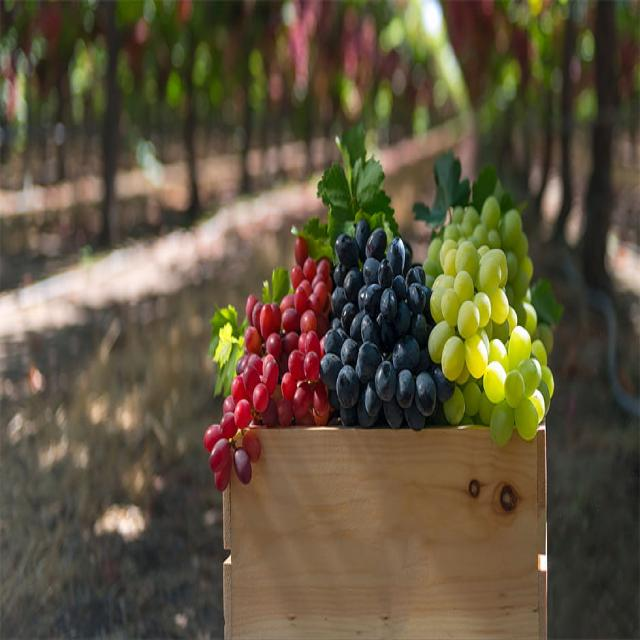grape: (202, 233, 322, 490), (438, 193, 556, 448), (322, 216, 436, 433)
